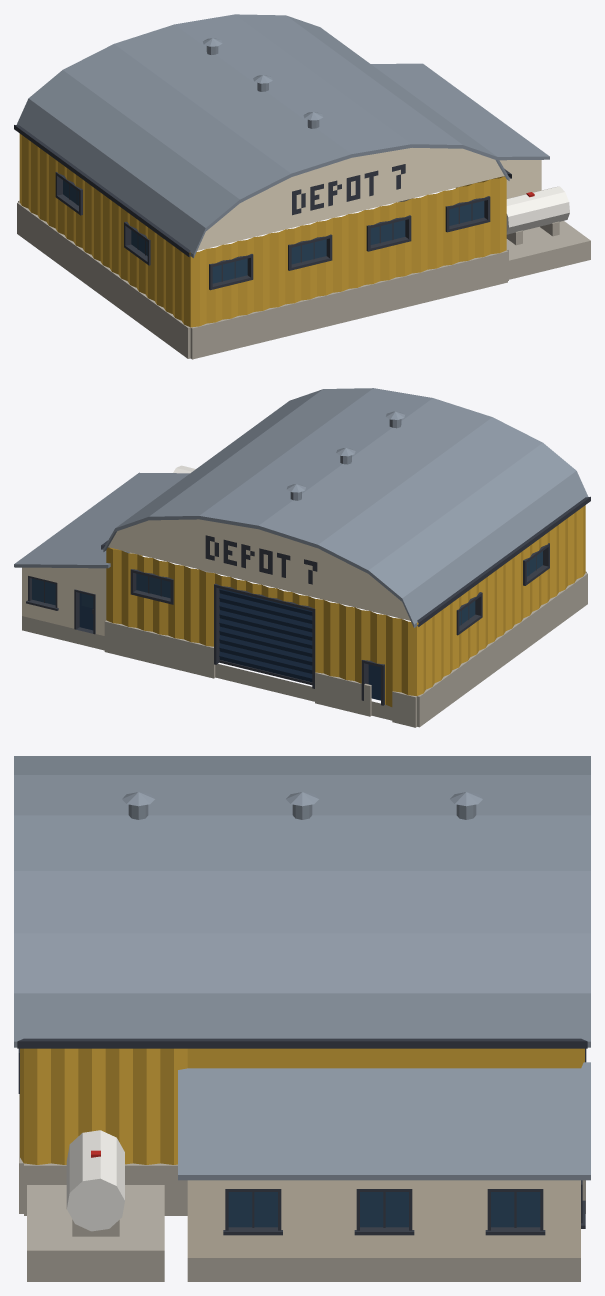
Rendered from warehouse_c.glb.
The picture shows the model from 3 angles, top to bottom: view 1: azimuth 30°, elevation 25°; view 2: azimuth 150°, elevation 25°; view 3: azimuth 270°, elevation 25°; orthographic projection. The views are drawn at different scales.
Parts seen in each view (by area): view 1: Building, Building_Glass, Building_Detail; view 2: Building, Building_Glass, Building_Detail; view 3: Building, Building_Glass, Building_Detail.
Part boxes in pixels (x1=…): Building: x1=14, y1=14, x2=590, y2=359; Building_Glass: x1=63, y1=180, x2=484, y2=283; Building_Detail: x1=203, y1=38, x2=534, y2=197; Building: x1=14, y1=388, x2=590, y2=727; Building_Glass: x1=32, y1=551, x2=542, y2=625; Building_Detail: x1=92, y1=411, x2=404, y2=613; Building: x1=14, y1=756, x2=590, y2=1281; Building_Glass: x1=228, y1=1192, x2=540, y2=1227; Building_Detail: x1=91, y1=792, x2=482, y2=1157.
Size of the model in its own units: 23.5 by 9.98 by 17.6.
